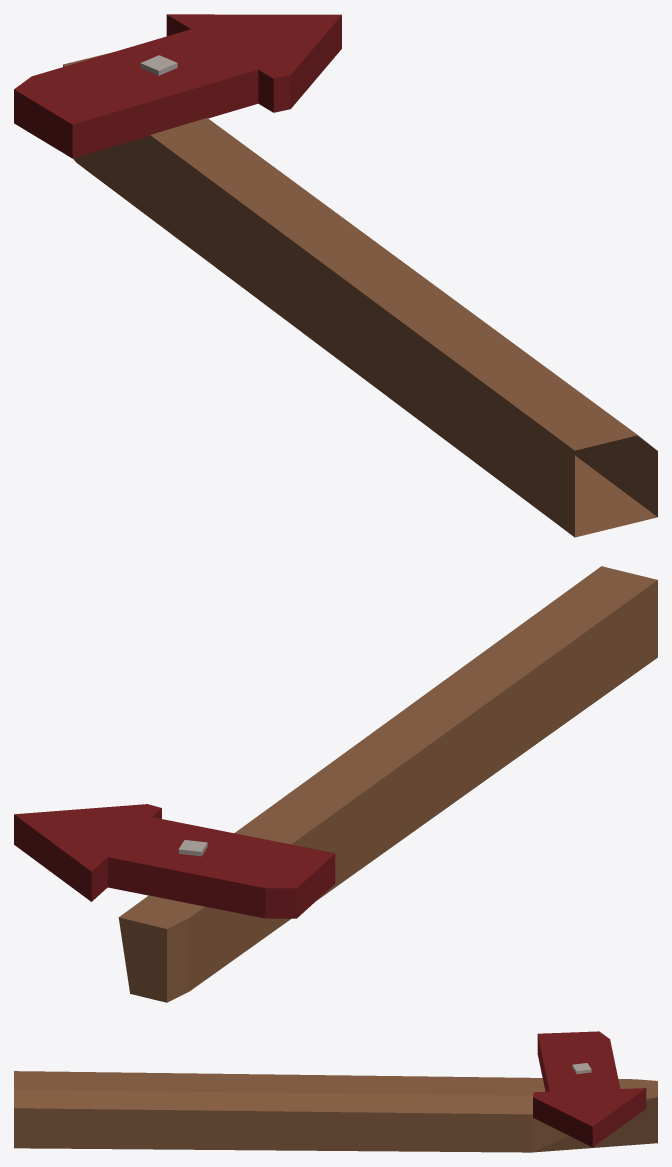
File: Arrow Signboard 01 Right.FBX
3 views of the same model, one above another, from view 1: azimuth 30°, elevation 25°; view 2: azimuth 150°, elevation 25°; view 3: azimuth 270°, elevation 25° (orthographic). The views are drawn at different scales.
Parts seen in each view (by area): view 1: Arrow Signboard 01 Right; view 2: Arrow Signboard 01 Right; view 3: Arrow Signboard 01 Right.
Part boxes in pixels (x1,y1,x2,y2): Arrow Signboard 01 Right: (14, 14, 657, 537); Arrow Signboard 01 Right: (14, 566, 657, 1002); Arrow Signboard 01 Right: (14, 1031, 657, 1152).
Bounding box in the file's own units: 42.45 × 121 × 15.31.
